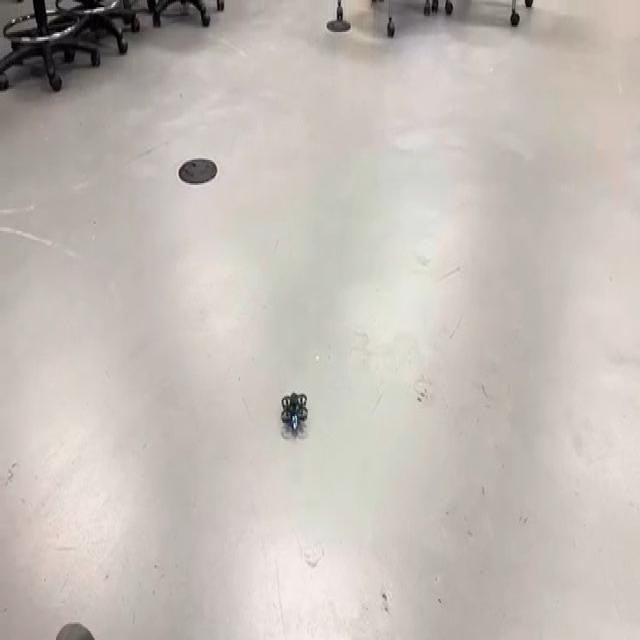drone: (272, 372, 315, 446)
